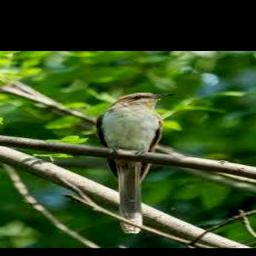Cuckoo: (96, 93, 177, 231)
